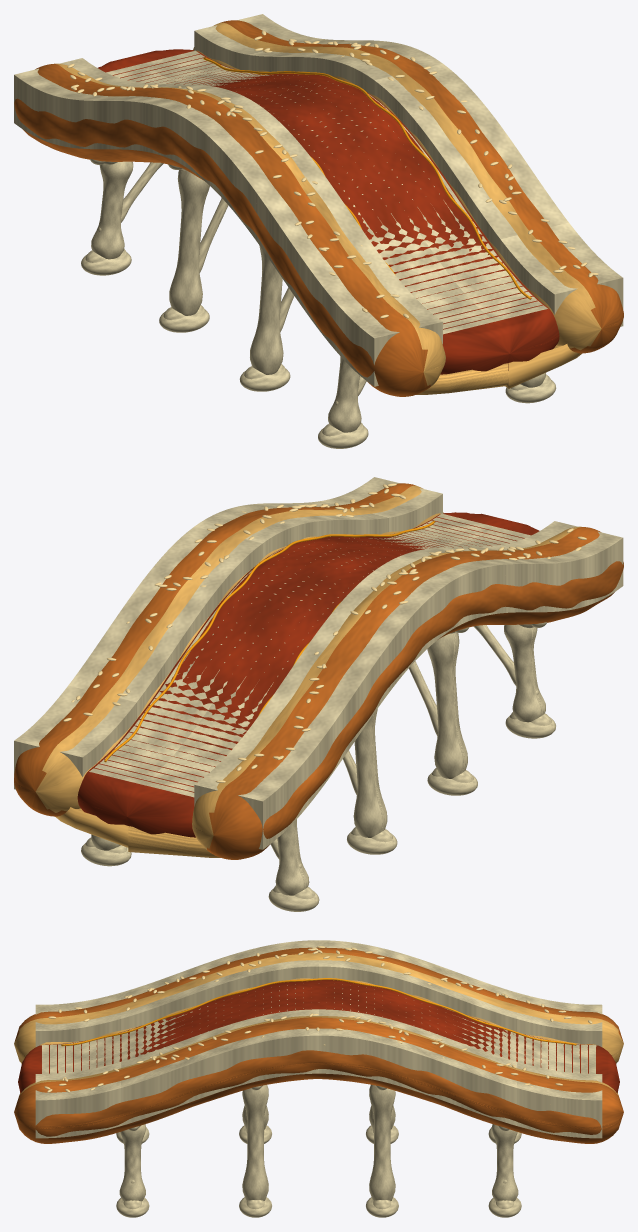
File: Hotdog_Bridge.fbx
3 views of the same model, one above another, from view 1: azimuth 30°, elevation 25°; view 2: azimuth 150°, elevation 25°; view 3: azimuth 270°, elevation 25° (orthographic). The views are drawn at different scales.
Visible parts, largest first — view 1: Visual_Bun, Visual_Sausage, COL_Rail_Left, COL_Rail_Right, Visual_Supports, COL_Walkway; view 2: Visual_Bun, Visual_Sausage, COL_Rail_Left, COL_Rail_Right, Visual_Supports, COL_Walkway; view 3: Visual_Bun, COL_Rail_Right, COL_Rail_Left, Visual_Sausage, Visual_Supports, COL_Walkway.
Boxes of the visible parts, x1=… form: Visual_Bun: x1=14, y1=20, x2=623, y2=396; Visual_Sausage: x1=98, y1=49, x2=559, y2=374; COL_Rail_Left: x1=14, y1=58, x2=442, y2=386; COL_Rail_Right: x1=194, y1=14, x2=623, y2=326; Visual_Supports: x1=81, y1=159, x2=556, y2=448; COL_Walkway: x1=106, y1=50, x2=547, y2=334; Visual_Bun: x1=14, y1=483, x2=623, y2=859; Visual_Sausage: x1=77, y1=512, x2=539, y2=837; COL_Rail_Left: x1=194, y1=521, x2=623, y2=849; COL_Rail_Right: x1=14, y1=477, x2=442, y2=789; Visual_Supports: x1=81, y1=622, x2=555, y2=911; COL_Walkway: x1=89, y1=513, x2=530, y2=797; Visual_Bun: x1=14, y1=946, x2=623, y2=1143; COL_Rail_Right: x1=35, y1=1009, x2=602, y2=1138; COL_Rail_Left: x1=35, y1=940, x2=602, y2=1046; Visual_Sausage: x1=18, y1=978, x2=619, y2=1093; Visual_Supports: x1=116, y1=1084, x2=521, y2=1217; COL_Walkway: x1=41, y1=984, x2=596, y2=1073.
Size of the model in its own units: 584 by 542 by 1540.
6 materials, 4 textured.
